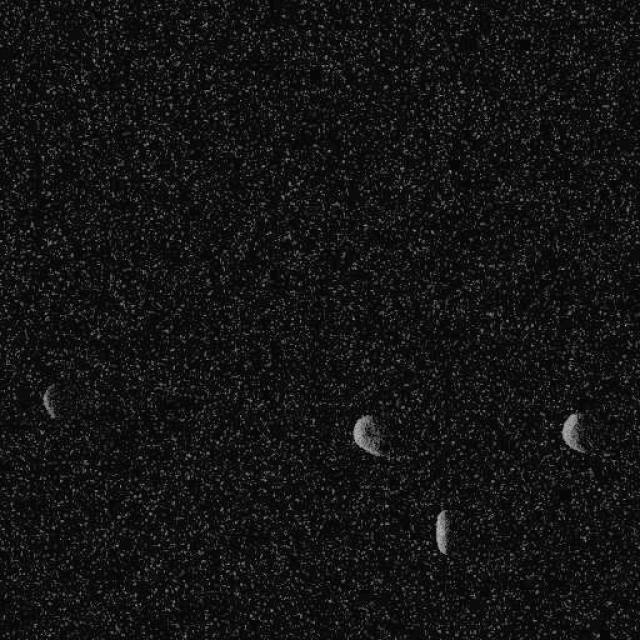D2: (351, 412, 390, 458), (560, 410, 588, 455), (434, 507, 450, 555), (40, 381, 59, 419)
